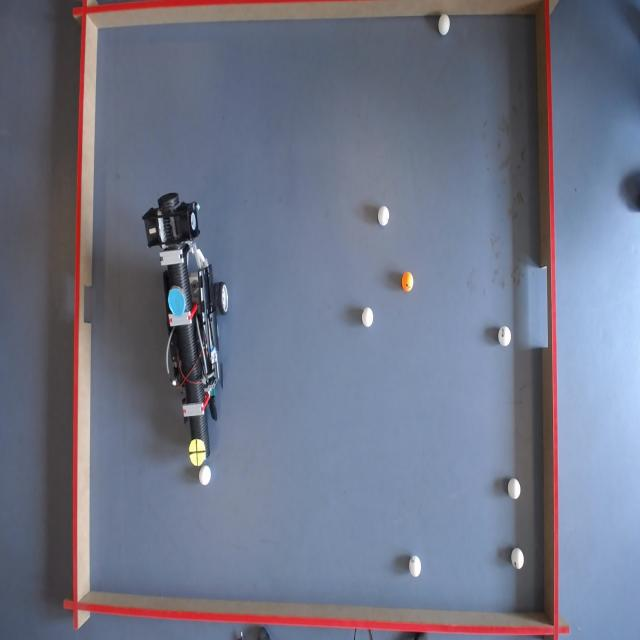orange: (402, 272, 415, 292)
robot: (153, 194, 234, 469)
robot-front: (188, 440, 205, 468)
robot-rear: (168, 286, 188, 316)
white: (198, 461, 213, 486), (511, 547, 525, 569), (498, 325, 512, 347), (508, 477, 521, 500), (438, 14, 451, 36), (378, 206, 391, 227), (409, 556, 421, 578), (362, 308, 374, 328)
